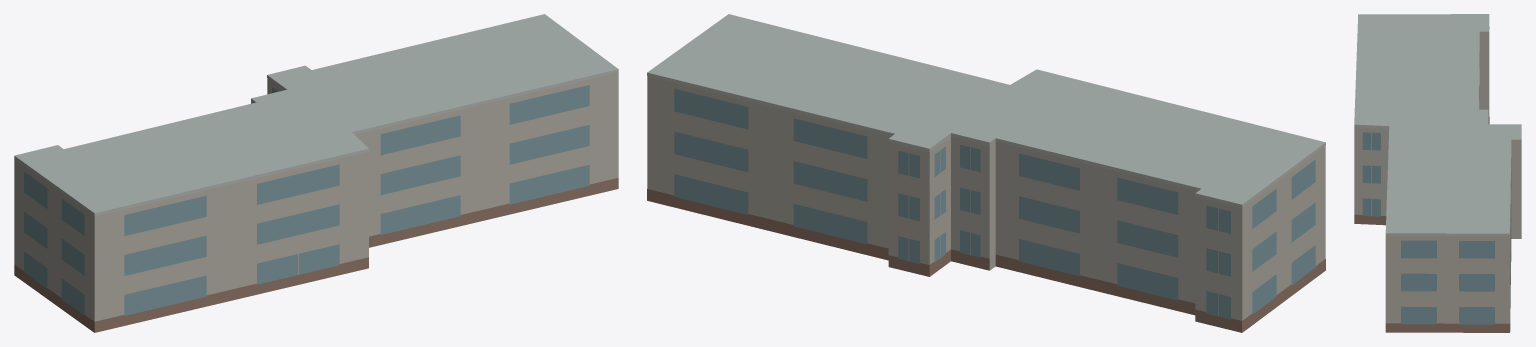
File: survey-upis-32887148.glb
The picture shows the model from 3 angles, left to right: view 1: azimuth 30°, elevation 25°; view 2: azimuth 150°, elevation 25°; view 3: azimuth 270°, elevation 25°; orthographic projection. The views are drawn at different scales.
Parts seen in each view (by area): view 1: survey-upis-32887148.tmp; view 2: survey-upis-32887148.tmp; view 3: survey-upis-32887148.tmp.
Part boxes in pixels (bbox=[...]): survey-upis-32887148.tmp: bbox=[14, 14, 618, 332]; survey-upis-32887148.tmp: bbox=[647, 14, 1325, 332]; survey-upis-32887148.tmp: bbox=[1354, 14, 1521, 332].
Size of the model in its own units: 43.45 by 9.15 by 14.01.
